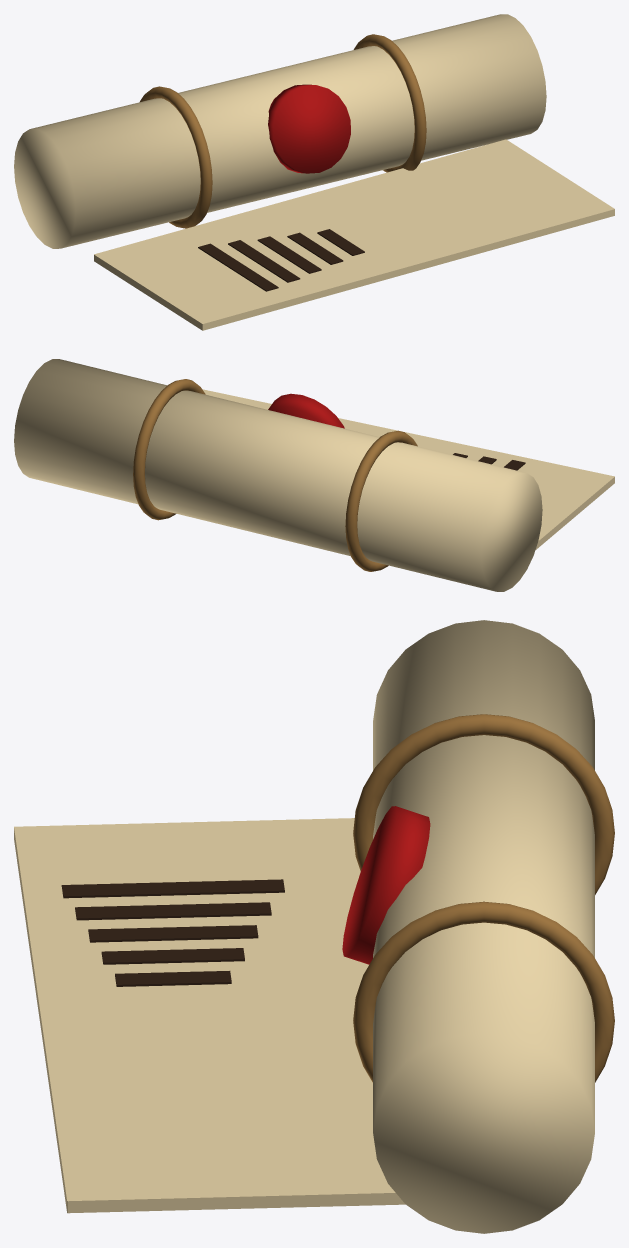
Rendered from karrenbrief.glb.
3 renders of one model, top to bottom at view 1: azimuth 30°, elevation 25°; view 2: azimuth 150°, elevation 25°; view 3: azimuth 270°, elevation 25°, orthographic. The views are drawn at different scales.
Visible parts, largest first — view 1: Cone; view 2: Cone; view 3: Cone.
Part boxes in pixels (left/top/right/bottom): Cone: left=14, top=14, right=614, bottom=330; Cone: left=14, top=359, right=614, bottom=591; Cone: left=14, top=620, right=614, bottom=1233.
Bounding box in the file's own units: 0.22 × 0.059 × 0.1354.
